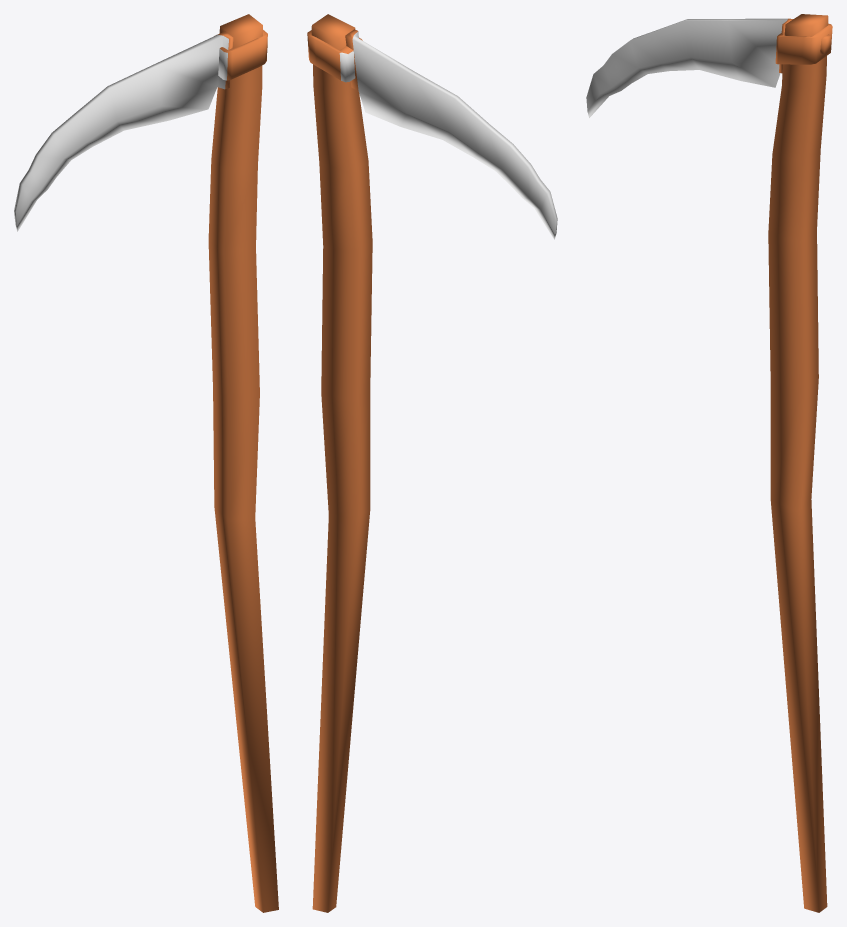
File: scythe.fbx
The picture shows the model from 3 angles, left to right: view 1: azimuth 30°, elevation 25°; view 2: azimuth 150°, elevation 25°; view 3: azimuth 330°, elevation 25°; orthographic projection.
Parts seen in each view (by area): view 1: Scyth; view 2: Scyth; view 3: Scyth.
Part boxes in pixels (x1,y1,x2,y2): Scyth: (14,14,278,912); Scyth: (307,14,557,912); Scyth: (586,14,832,912).
Size of the model in its own units: 55.23 by 188 by 8.97.
